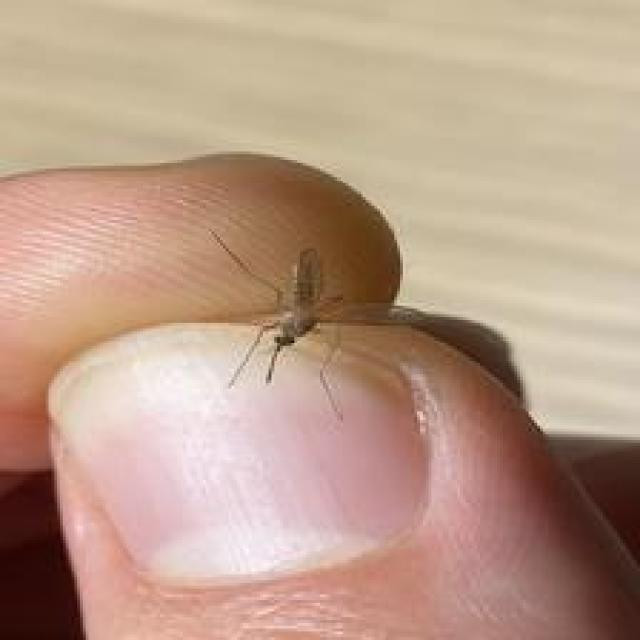Culex: (205, 227, 526, 422)
